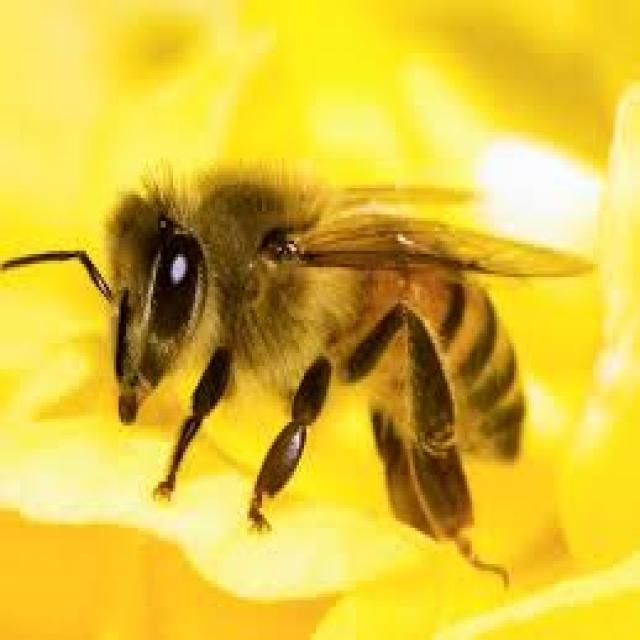Bees: (0, 160, 596, 588)
